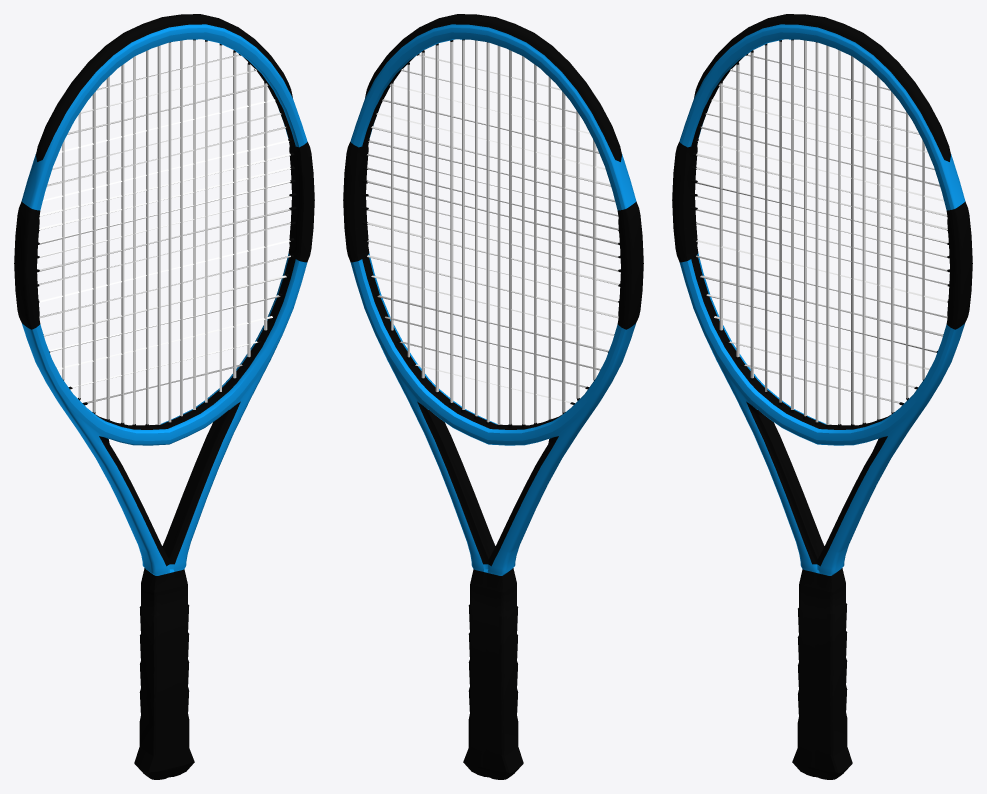
Rendered from TennisRacket.fbx.
3 renders of one model, left to right at view 1: azimuth 30°, elevation 25°; view 2: azimuth 150°, elevation 25°; view 3: azimuth 330°, elevation 25°, orthographic.
Visible parts, largest first — view 1: Tennis Racket; view 2: Tennis Racket; view 3: Tennis Racket.
Boxes of the visible parts, left/top/right/bottom form: Tennis Racket: left=14, top=14, right=314, bottom=779; Tennis Racket: left=343, top=14, right=643, bottom=779; Tennis Racket: left=672, top=14, right=972, bottom=779.
Size of the model in its own units: 0.2287 by 0.5661 by 0.0206.
